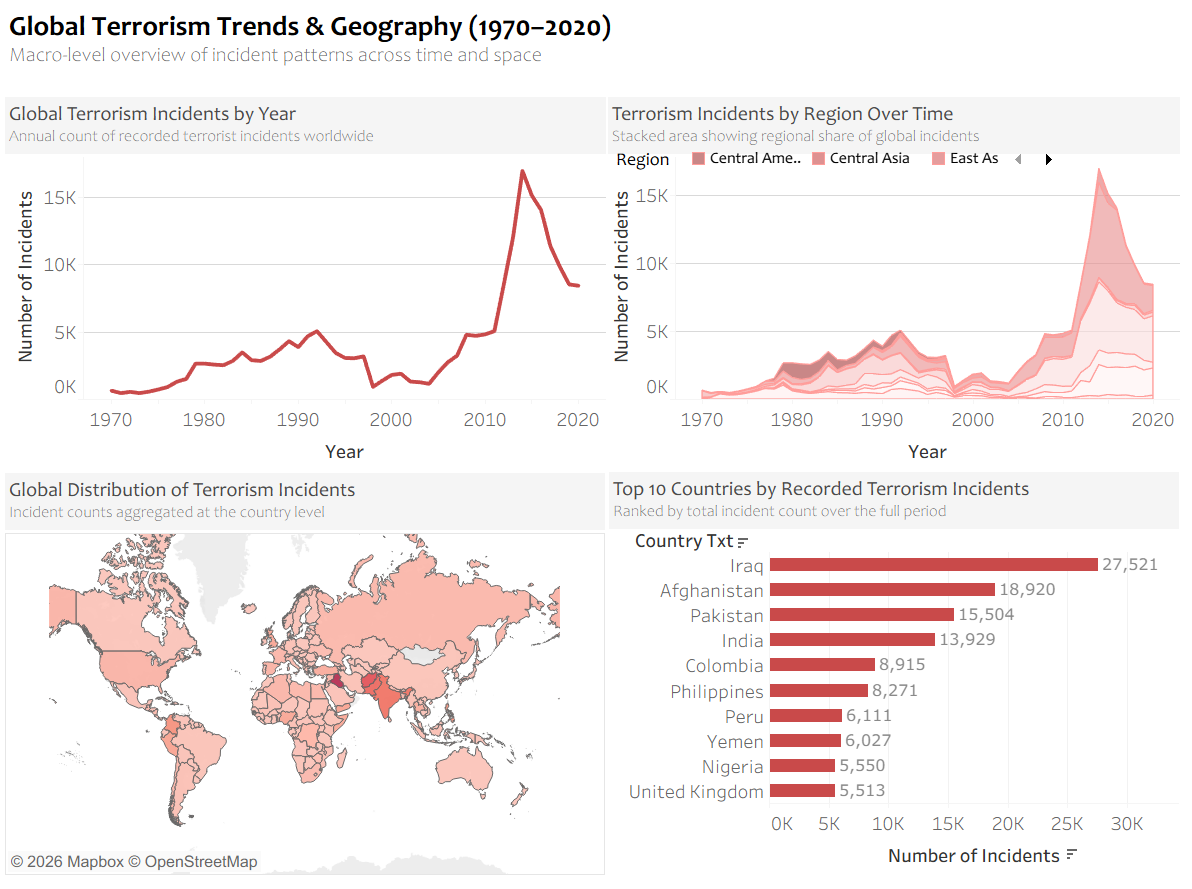

The page's visual inventory and layout, read from the dashboard file:
{"tool":"tableau","page":{"name":"D1-Global Trends & Geography","canvas":[1200,900],"ordinal":1},"visuals":[{"type":"text","box":[8,8,1184,88]},{"type":"worksheet","title":"Global Incidents by Year","mark":"Line","rows":["eventid"],"cols":["iyear"],"box":[12,111,601,373]},{"type":"worksheet","title":"Incidents by Region","mark":"Area","rows":["eventid"],"cols":["iyear"],"box":[615,111,572,373]},{"type":"legend","title":"Incidents by Region","param":"[federated.1e4z73b0k8920x141qt450b07ayp].[none:region_txt:nk]","box":[623,162,449,22]},{"type":"worksheet","title":"Top 10 Countries by Incidents","mark":"Automatic","rows":["country_txt"],"cols":["eventid"],"box":[616,486,570,402]},{"type":"worksheet","title":"Incidents by Country (Map)","mark":"Multipolygon","box":[12,487,600,402]}]}

Visuals, with their boxes in screenshot pixels (x1, y1, x2, y2), scaled from the page's 1200x900 canvas onto the 1192x889 screenshot:
text: <box>8,8,1184,95</box>
"Global Incidents by Year" worksheet (Line marks): <box>12,110,609,478</box>
"Incidents by Region" worksheet (Area marks): <box>611,110,1179,478</box>
"Incidents by Region" legend: <box>619,160,1065,182</box>
"Top 10 Countries by Incidents" worksheet: <box>612,480,1178,877</box>
"Incidents by Country (Map)" worksheet (Multipolygon marks): <box>12,481,608,878</box>
